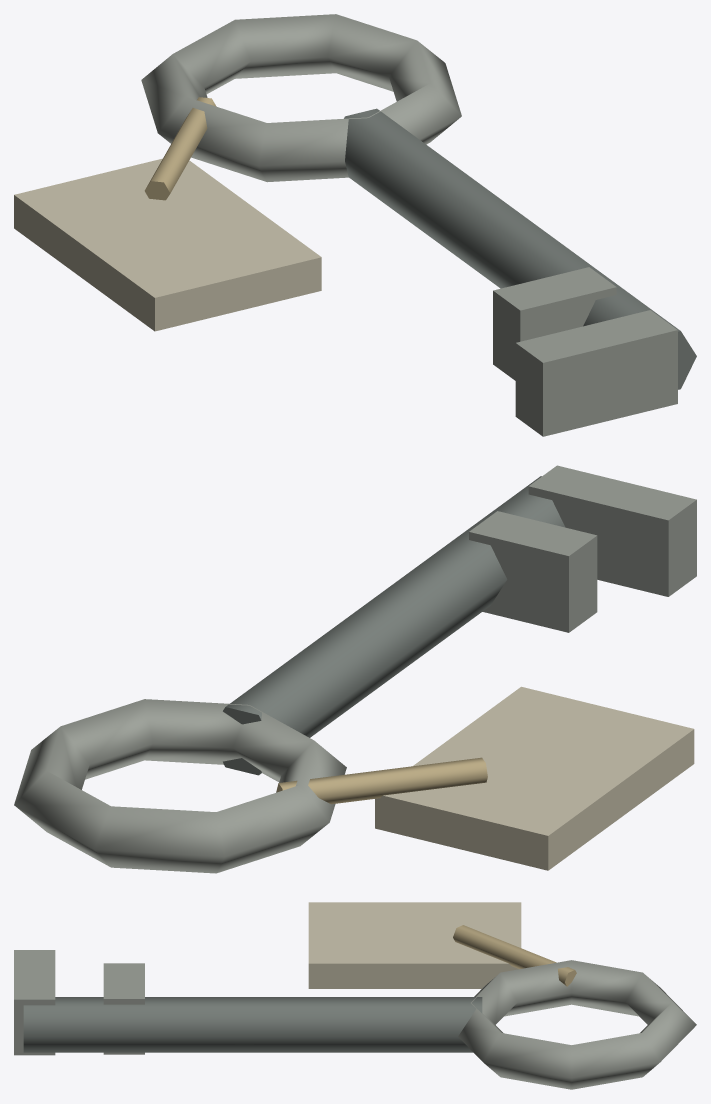
File: spread-portable-stillleafkey.fbx
3 views of the same model, one above another, from view 1: azimuth 30°, elevation 25°; view 2: azimuth 150°, elevation 25°; view 3: azimuth 270°, elevation 25° (orthographic). The views are drawn at different scales.
Parts seen in each view (by area): view 1: spread-portable-stillleafkey__Geometry; view 2: spread-portable-stillleafkey__Geometry; view 3: spread-portable-stillleafkey__Geometry.
Boxes of the visible parts, left/top/right/bottom form: spread-portable-stillleafkey__Geometry: left=14, top=14, right=696, bottom=436; spread-portable-stillleafkey__Geometry: left=14, top=465, right=696, bottom=873; spread-portable-stillleafkey__Geometry: left=14, top=902, right=696, bottom=1089.
Bounding box in the file's own units: 0.362 × 0.055 × 0.6105.
